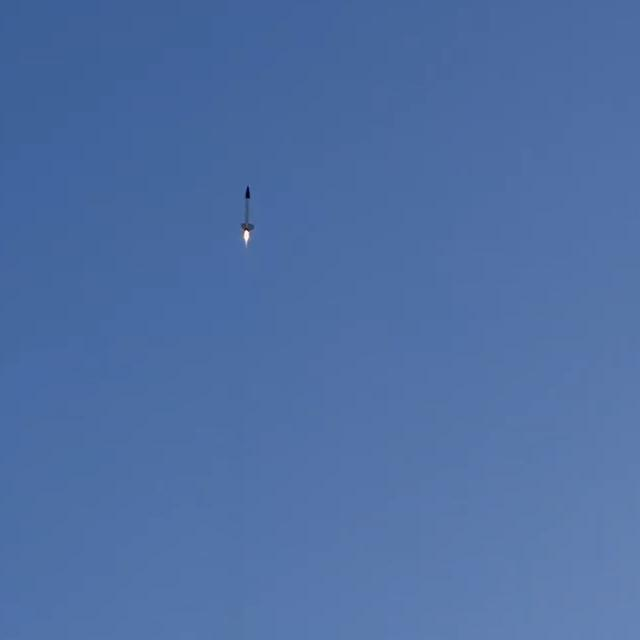rocket: (241, 189, 253, 246)
